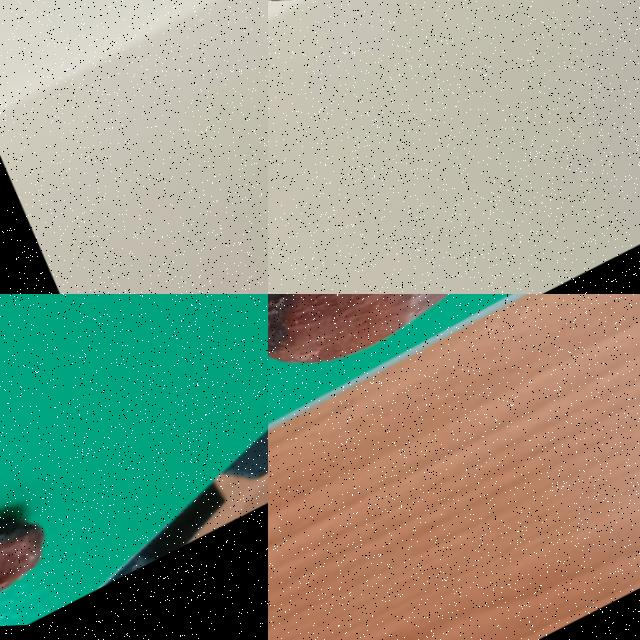Fine_cocoabeans: (268, 294, 583, 452), (268, 0, 614, 75)
Flat_cocoabeans: (0, 442, 120, 638)
